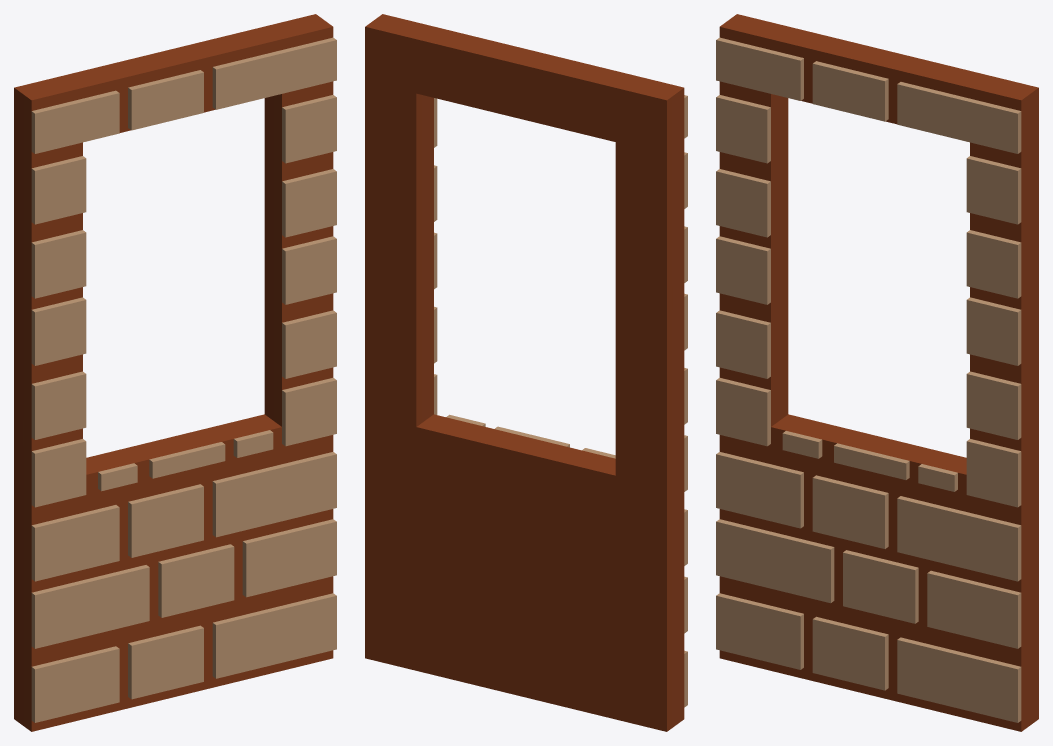
File: BrickV1SmallWindowframe.fbx
The picture shows the model from 3 angles, left to right: view 1: azimuth 30°, elevation 25°; view 2: azimuth 150°, elevation 25°; view 3: azimuth 330°, elevation 25°; orthographic projection.
Visible parts, largest first — view 1: BrickV1SmallWindowframe; view 2: BrickV1SmallWindowframe; view 3: BrickV1SmallWindowframe.
Part boxes in pixels (<box>): BrickV1SmallWindowframe: <box>14,14,336,731</box>; BrickV1SmallWindowframe: <box>365,14,687,731</box>; BrickV1SmallWindowframe: <box>716,14,1038,731</box>.
Size of the model in its own units: 100 by 200 by 12.
